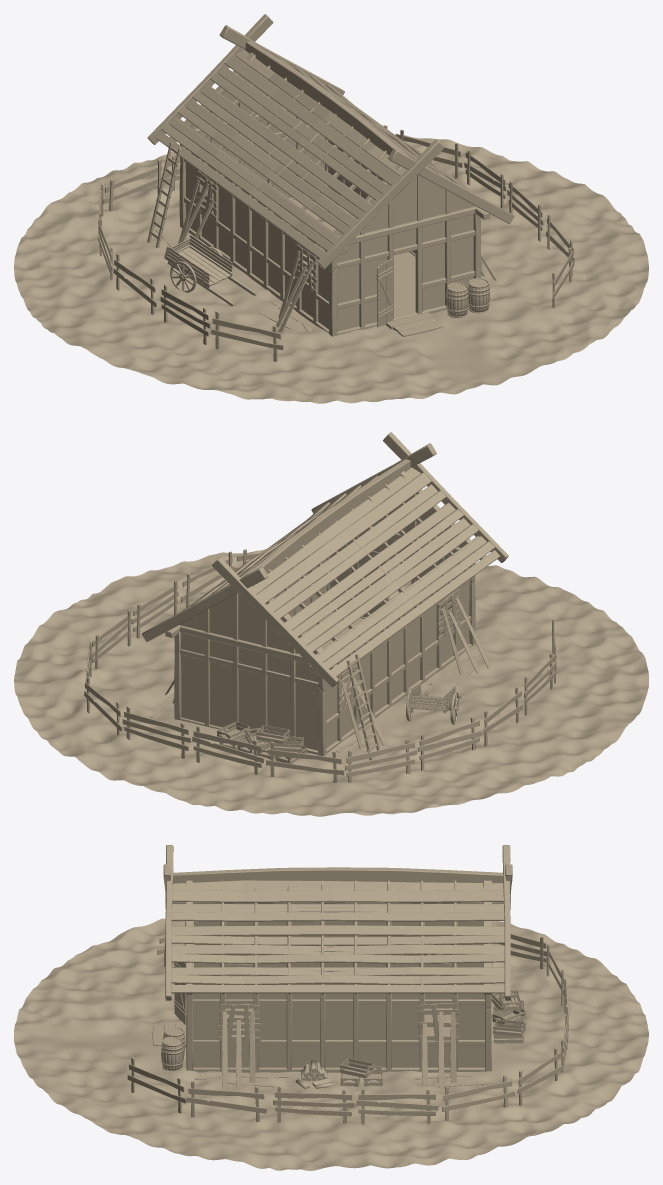
The model's file is house-003.glb.
3 renders of one model, top to bottom at view 1: azimuth 30°, elevation 25°; view 2: azimuth 150°, elevation 25°; view 3: azimuth 270°, elevation 25°, orthographic.
Visible parts, largest first — view 1: Old_House; view 2: Old_House; view 3: Old_House.
Boxes of the visible parts, x1,y1,x2,y2 form: Old_House: (14,14,648,403); Old_House: (14,432,648,816); Old_House: (14,845,648,1170).
Bounding box in the file's own units: 19.14 × 6.22 × 19.14.
